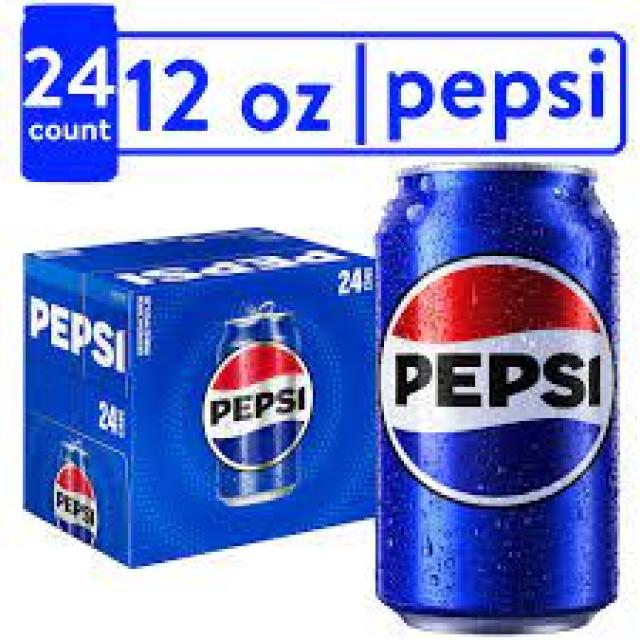Cans: (376, 159, 620, 632)
